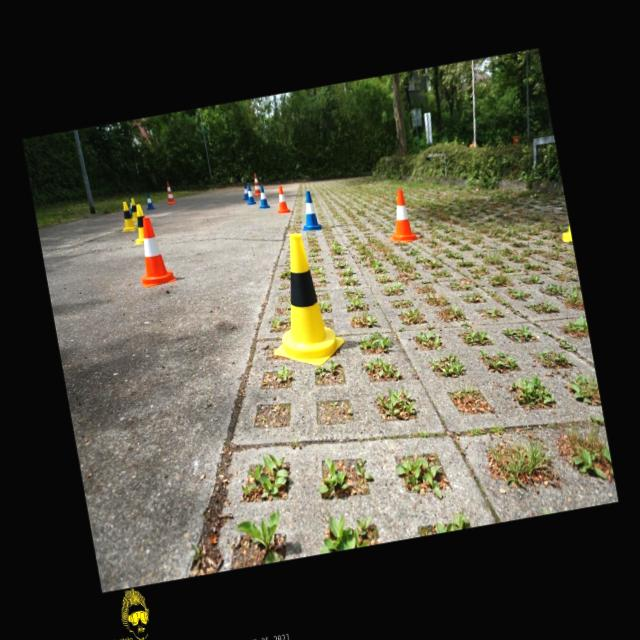blue_cone: (296, 190, 322, 232), (254, 184, 270, 208), (244, 182, 256, 205), (240, 182, 250, 200), (144, 192, 154, 210)
large_orange_cone: (163, 180, 176, 203), (250, 172, 262, 196)
orange_cone: (130, 214, 176, 288), (380, 187, 421, 244), (272, 185, 290, 214)
yellow_cone: (254, 228, 348, 372), (128, 204, 148, 244), (116, 200, 138, 232), (128, 197, 138, 221)
